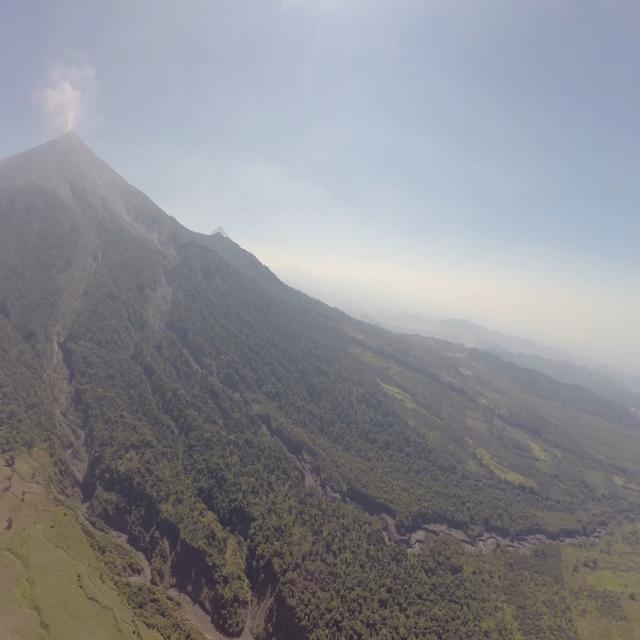Plume: (40, 76, 86, 132), (64, 111, 74, 133)
Summit: (56, 126, 86, 150)
